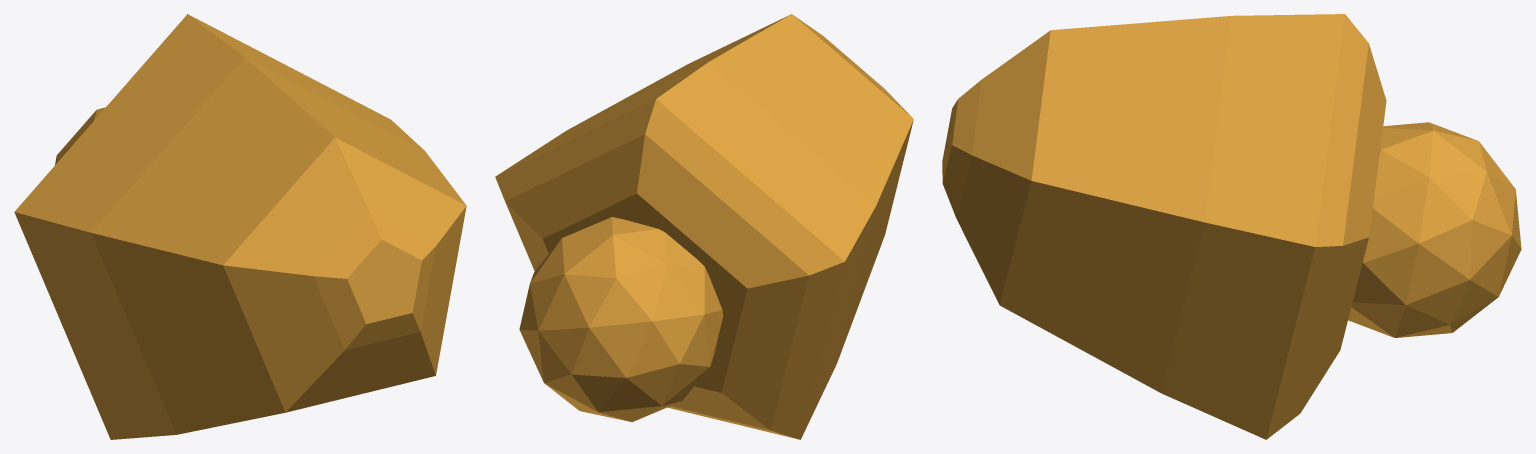
File: LowerLeg_Left.fbx
3 views of the same model, side by side, from view 1: azimuth 30°, elevation 25°; view 2: azimuth 150°, elevation 25°; view 3: azimuth 270°, elevation 25° (orthographic). The views are drawn at different scales.
Parts seen in each view (by area): view 1: LowerLeg_Left; view 2: LowerLeg_Left; view 3: LowerLeg_Left.
Boxes of the visible parts, <box> form: LowerLeg_Left: <box>14,14,466,439</box>; LowerLeg_Left: <box>495,14,913,439</box>; LowerLeg_Left: <box>942,14,1521,439</box>.
Bounding box in the file's own units: 56.66 × 52.9 × 75.25.
